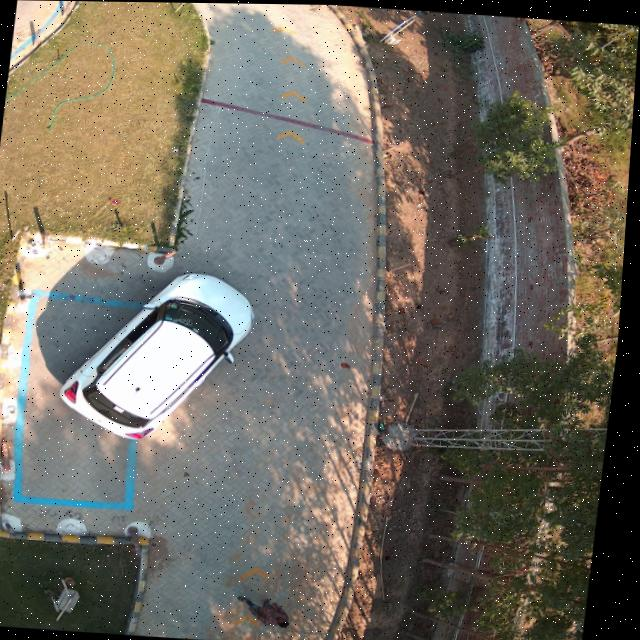car: (64, 272, 257, 439)
